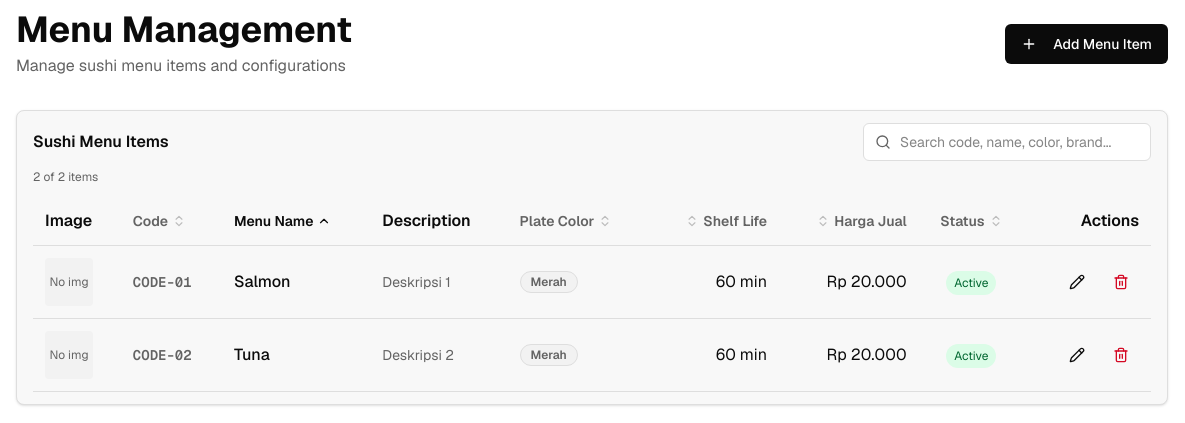
Test case: MenusAdmin — search › searches by brand name
Type "brand lain" into the field with placeholder "Search code, name, color, brand..." at (1007,142), box [863,123,1151,161]
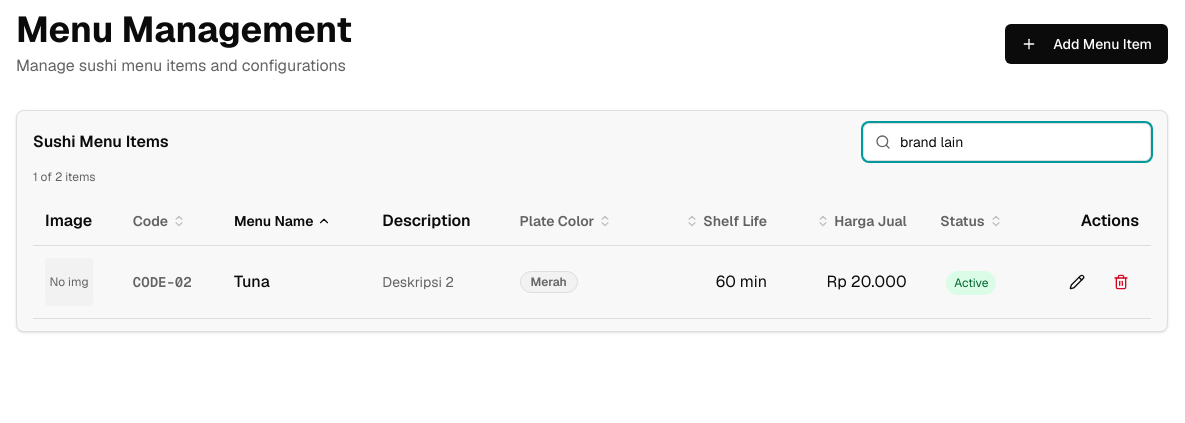
Expected: the text "Tuna" is shown, [222,246,370,318]
Now the text "Salmon" is gone
